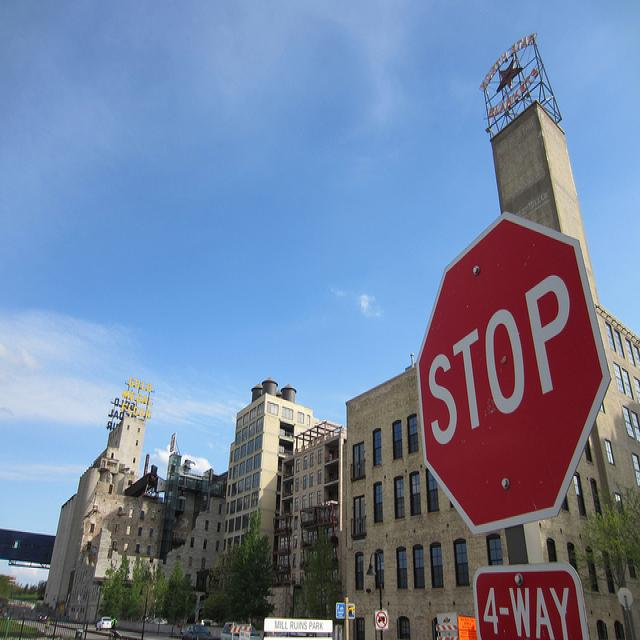Vehicle: (180, 623, 222, 640), (221, 621, 245, 639), (96, 618, 112, 631)
